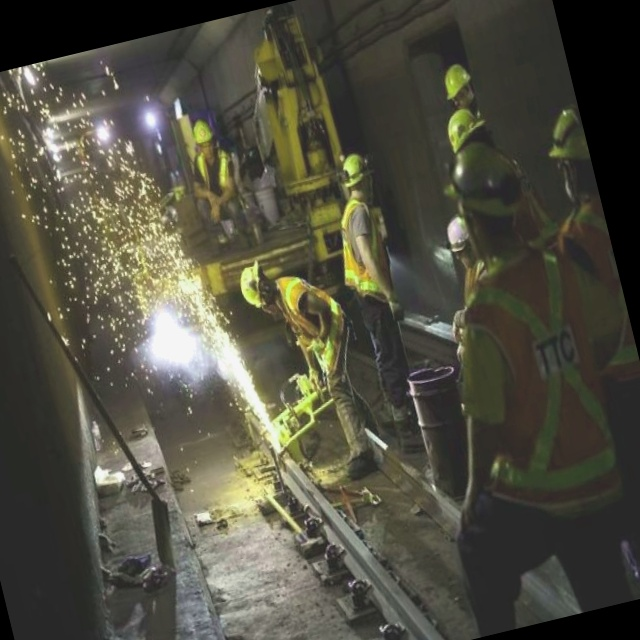Con_Casco: (236, 258, 277, 322), (337, 150, 378, 198), (439, 63, 478, 111)
Con_Chaleco: (271, 265, 356, 386), (329, 192, 400, 303), (191, 146, 241, 212)
